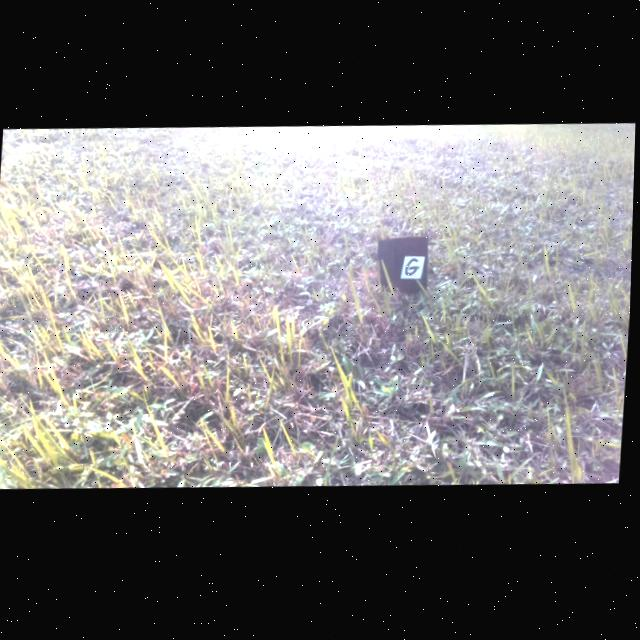G: (407, 262, 420, 279)
